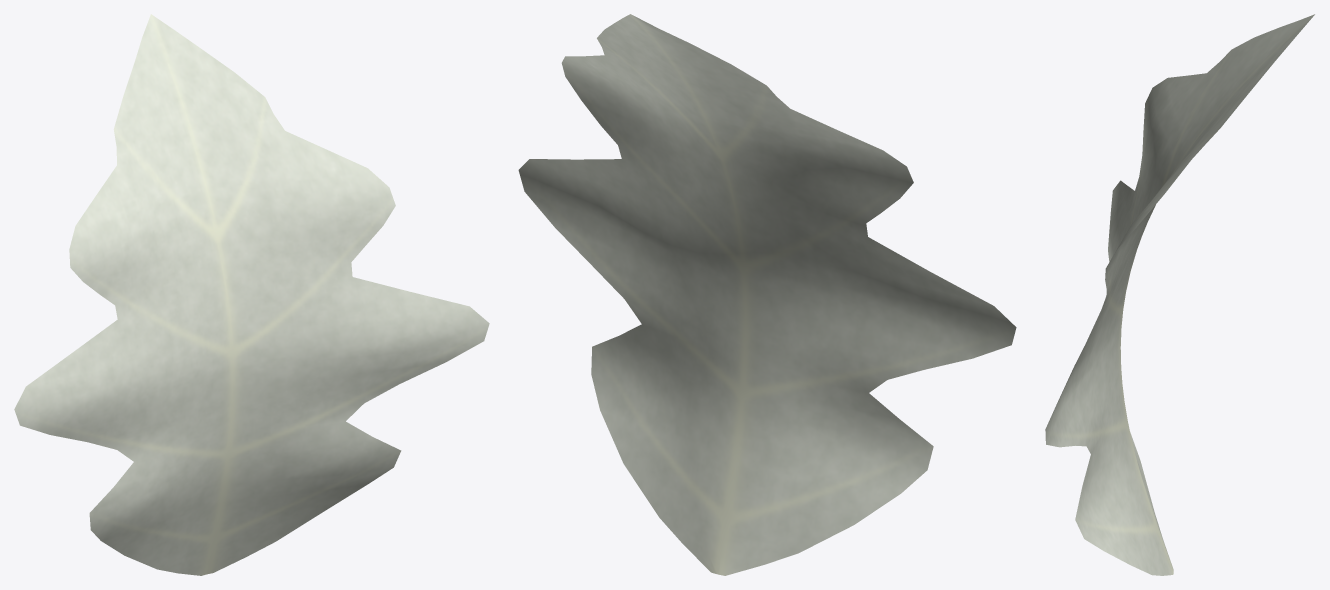
The model's file is hydrangea-leaf.glb.
3 renders of one model, left to right at view 1: azimuth 30°, elevation 25°; view 2: azimuth 150°, elevation 25°; view 3: azimuth 270°, elevation 25°, orthographic. The views are drawn at different scales.
Parts seen in each view (by area): view 1: Oakleaf delivery organ; view 2: Oakleaf delivery organ; view 3: Oakleaf delivery organ.
Boxes of the visible parts, x1=… form: Oakleaf delivery organ: x1=14, y1=14, x2=489, y2=575; Oakleaf delivery organ: x1=518, y1=14, x2=1016, y2=575; Oakleaf delivery organ: x1=1045, y1=14, x2=1314, y2=575.
Bounding box in the file's own units: 0.9106 × 1 × 0.4354.
1 material, 1 textured.
